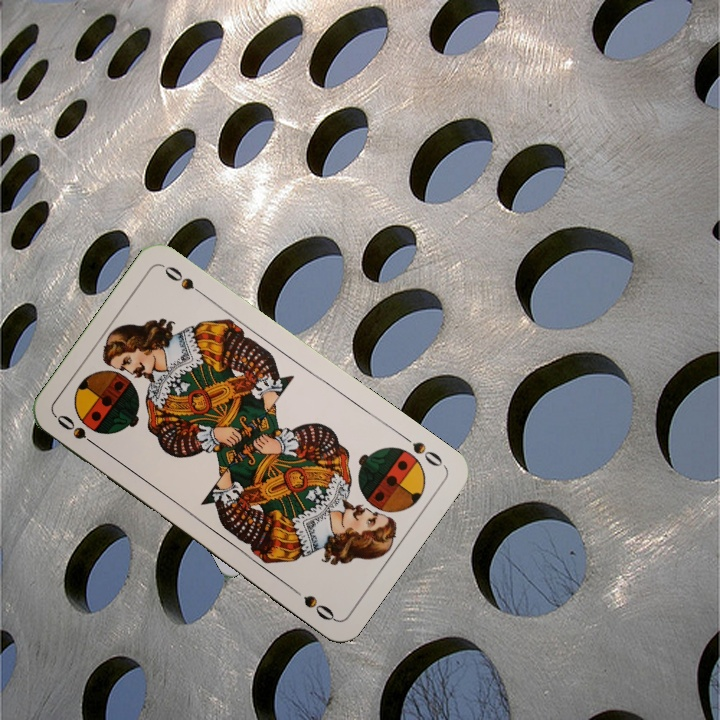SO: (52, 410, 104, 452), (396, 429, 448, 470)
